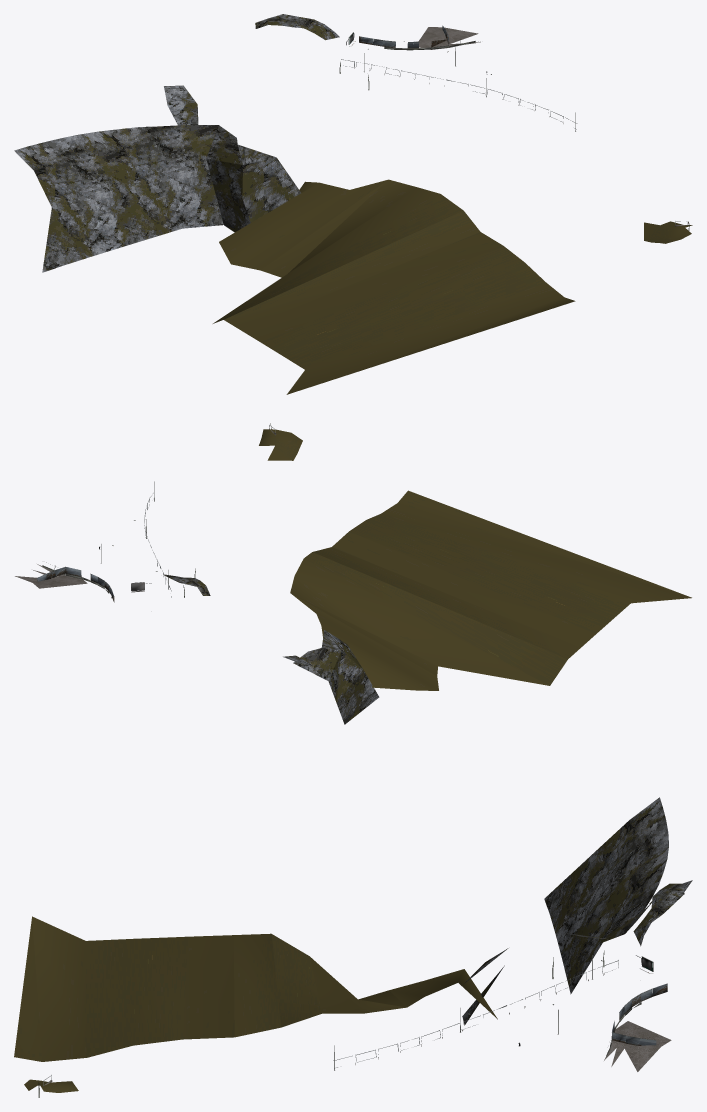
The model's file is world_camden_14_-4.gltf.
The picture shows the model from 3 angles, top to bottom: view 1: azimuth 30°, elevation 25°; view 2: azimuth 150°, elevation 25°; view 3: azimuth 270°, elevation 25°; orthographic projection. The views are drawn at different scales.
Bounding box in the file's own units: 276 × 85.18 × 263.
20 materials, 20 textured.
